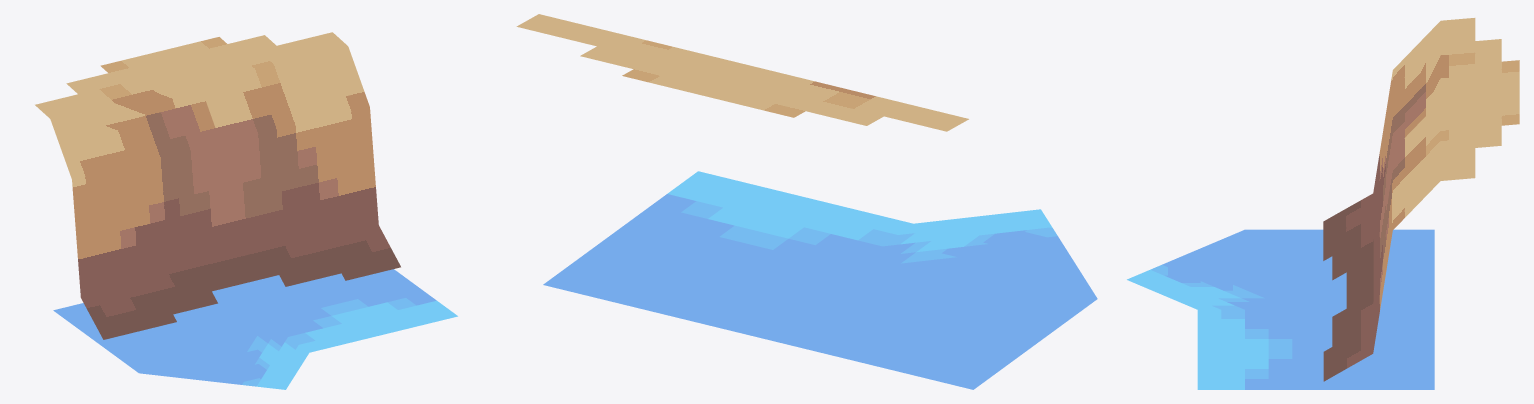
The picture shows the model from 3 angles, left to right: view 1: azimuth 30°, elevation 25°; view 2: azimuth 150°, elevation 25°; view 3: azimuth 270°, elevation 25°; orthographic projection. The views are drawn at different scales.
Bounding box in the file's own units: 1 × 0.627 × 1.04.
2 materials, 2 textured.
